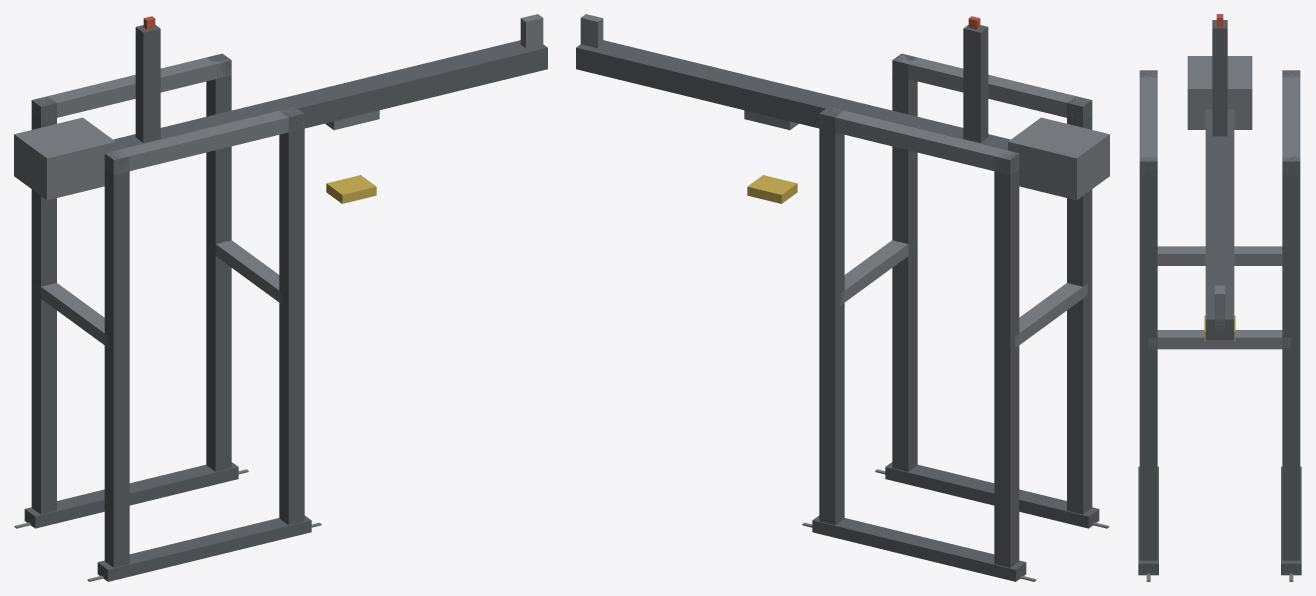
Rendered from hk-sts-quay-crane-70m.glb.
3 views of the same model, side by side, from view 1: azimuth 30°, elevation 25°; view 2: azimuth 150°, elevation 25°; view 3: azimuth 270°, elevation 25° (orthographic). The views are drawn at different scales.
Visible parts, largest first — view 1: sts-70; view 2: sts-70; view 3: sts-70.
Boxes of the visible parts, x1,y1,x2,y2 form: sts-70: [14, 14, 547, 581]; sts-70: [576, 14, 1109, 581]; sts-70: [1138, 14, 1301, 581].
Bounding box in the file's own units: 89 × 85.5 × 25.2.
